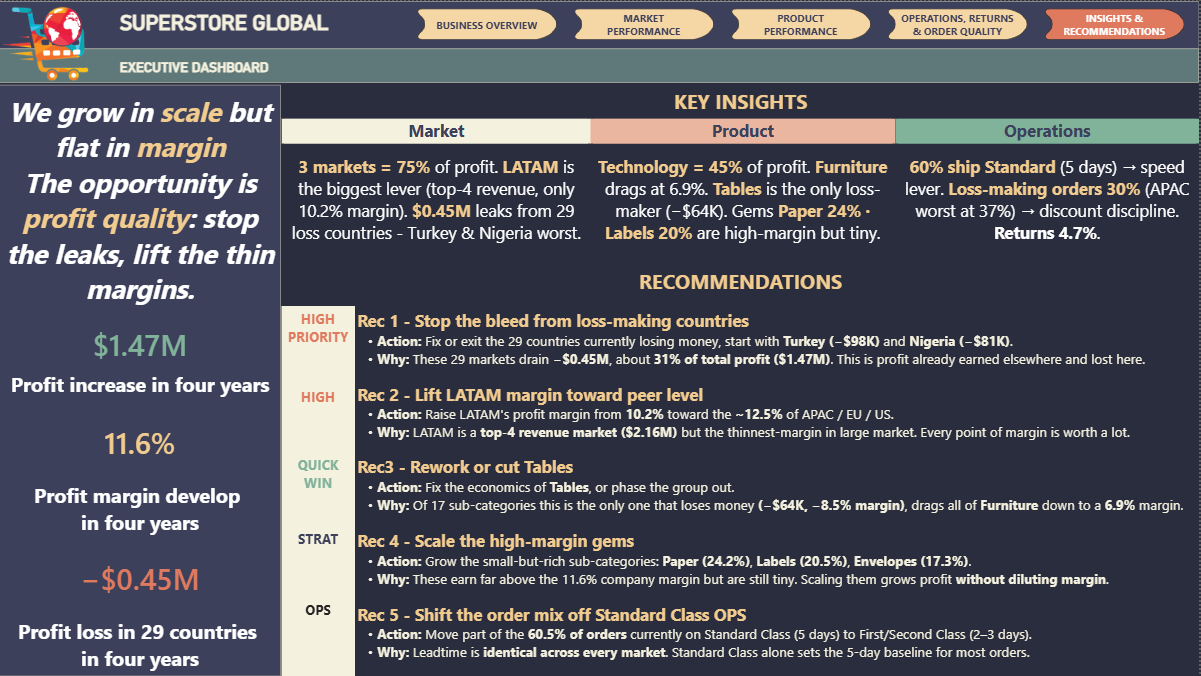

This screenshot's page, from the dashboard's own definition file:
{"tool":"powerbi","page":{"name":"INSIGHTS & RECOMMENDATIONS","canvas":[1920,1080],"ordinal":4},"visuals":[{"type":"shape","box":[0,0,1920.5,77],"z":0},{"type":"textbox","box":[188.9,0,355.8,75.2],"z":1000,"group":"g1"},{"type":"shape","box":[0,76.7,1920,55],"z":1000},{"type":"shape","box":[0,133.9,451.2,946.5],"z":2000},{"type":"pageNavigator","box":[662,12,1244,50],"z":3000},{"type":"textbox","box":[188.9,77,262.3,55],"z":3000,"group":"g1"},{"type":"group","id":"g1","title":"Group 4","box":[0,0,544.8,132.1],"z":4000},{"type":"textbox","box":[0,141.2,451.2,407.2],"z":5000},{"type":"cardVisual","fields":{"Data":["Measure.Thesis Leak"]},"box":[0,862.1,451.2,119.2],"z":6000},{"type":"cardVisual","fields":{"Data":["Measure.Total Profit"]},"box":[0,487.9,451.2,119.2],"z":7000},{"type":"cardVisual","fields":{"Data":["Measure.Profit Margin %"]},"box":[0,643.8,451.2,119.2],"z":8000},{"type":"textbox","box":[0,585.1,451.2,58.7],"z":9000},{"type":"textbox","box":[0,763,451.2,99],"z":10000},{"type":"textbox","box":[0,981.3,451.2,99],"z":11000},{"type":"textbox","box":[451.2,133.9,1469.2,53.2],"z":12000},{"type":"textbox","title":"Market","box":[451.2,187.1,495.2,234.8],"z":13000},{"type":"textbox","title":"Product","box":[946.5,187.1,487.9,234.8],"z":14000},{"type":"textbox","title":"Operations","box":[1434.4,187.1,486.1,234.8],"z":15000},{"type":"textbox","box":[451.2,421.9,1469.2,53.2],"z":16000},{"type":"textbox","box":[451.2,487.9,117.4,592.5],"z":17000},{"type":"textbox","box":[568.6,487.9,1351.8,126.6],"z":18000},{"type":"textbox","box":[568.6,605.3,1351.8,118],"z":19000},{"type":"textbox","box":[568.6,722.7,1351.8,118],"z":20000},{"type":"textbox","box":[568.6,840.1,1351.8,118],"z":21000},{"type":"textbox","box":[568.6,957.5,1351.8,122.9],"z":22000},{"type":"textbox","box":[451.2,487.9,117.4,126.6],"z":23000},{"type":"textbox","box":[451.2,614.5,117.4,126.6],"z":24000},{"type":"textbox","box":[451.2,722.7,117.4,126.6],"z":25000},{"type":"textbox","box":[451.2,840.1,117.4,126.6],"z":26000},{"type":"textbox","box":[451.2,953.8,117.4,126.6],"z":27000},{"type":"image","box":[0,0,188.9,132.1],"z":33001,"group":"g1"}]}

Visuals, with their boxes in screenshot pixels (x1, y1, x2, y2), scaled from the page's 1920x1080 canvas onto the 1201x676 screenshot:
shape: 0, 0, 1200, 48
textbox: 118, 0, 341, 47
shape: 0, 48, 1200, 82
shape: 0, 84, 282, 675
pageNavigator: 414, 8, 1192, 39
textbox: 118, 48, 282, 83
"Group 4" group: 0, 0, 341, 83
textbox: 0, 88, 282, 343
cardVisual - Measure.Thesis Leak: 0, 540, 282, 614
cardVisual - Measure.Total Profit: 0, 305, 282, 380
cardVisual - Measure.Profit Margin %: 0, 403, 282, 478
textbox: 0, 366, 282, 403
textbox: 0, 478, 282, 540
textbox: 0, 614, 282, 675
textbox: 282, 84, 1200, 117
"Market" textbox: 282, 117, 592, 264
"Product" textbox: 592, 117, 897, 264
"Operations" textbox: 897, 117, 1200, 264
textbox: 282, 264, 1200, 297
textbox: 282, 305, 356, 675
textbox: 356, 305, 1200, 385
textbox: 356, 379, 1200, 453
textbox: 356, 452, 1200, 526
textbox: 356, 526, 1200, 600
textbox: 356, 599, 1200, 675
textbox: 282, 305, 356, 385
textbox: 282, 385, 356, 464
textbox: 282, 452, 356, 532
textbox: 282, 526, 356, 605
textbox: 282, 597, 356, 675
image: 0, 0, 118, 83
